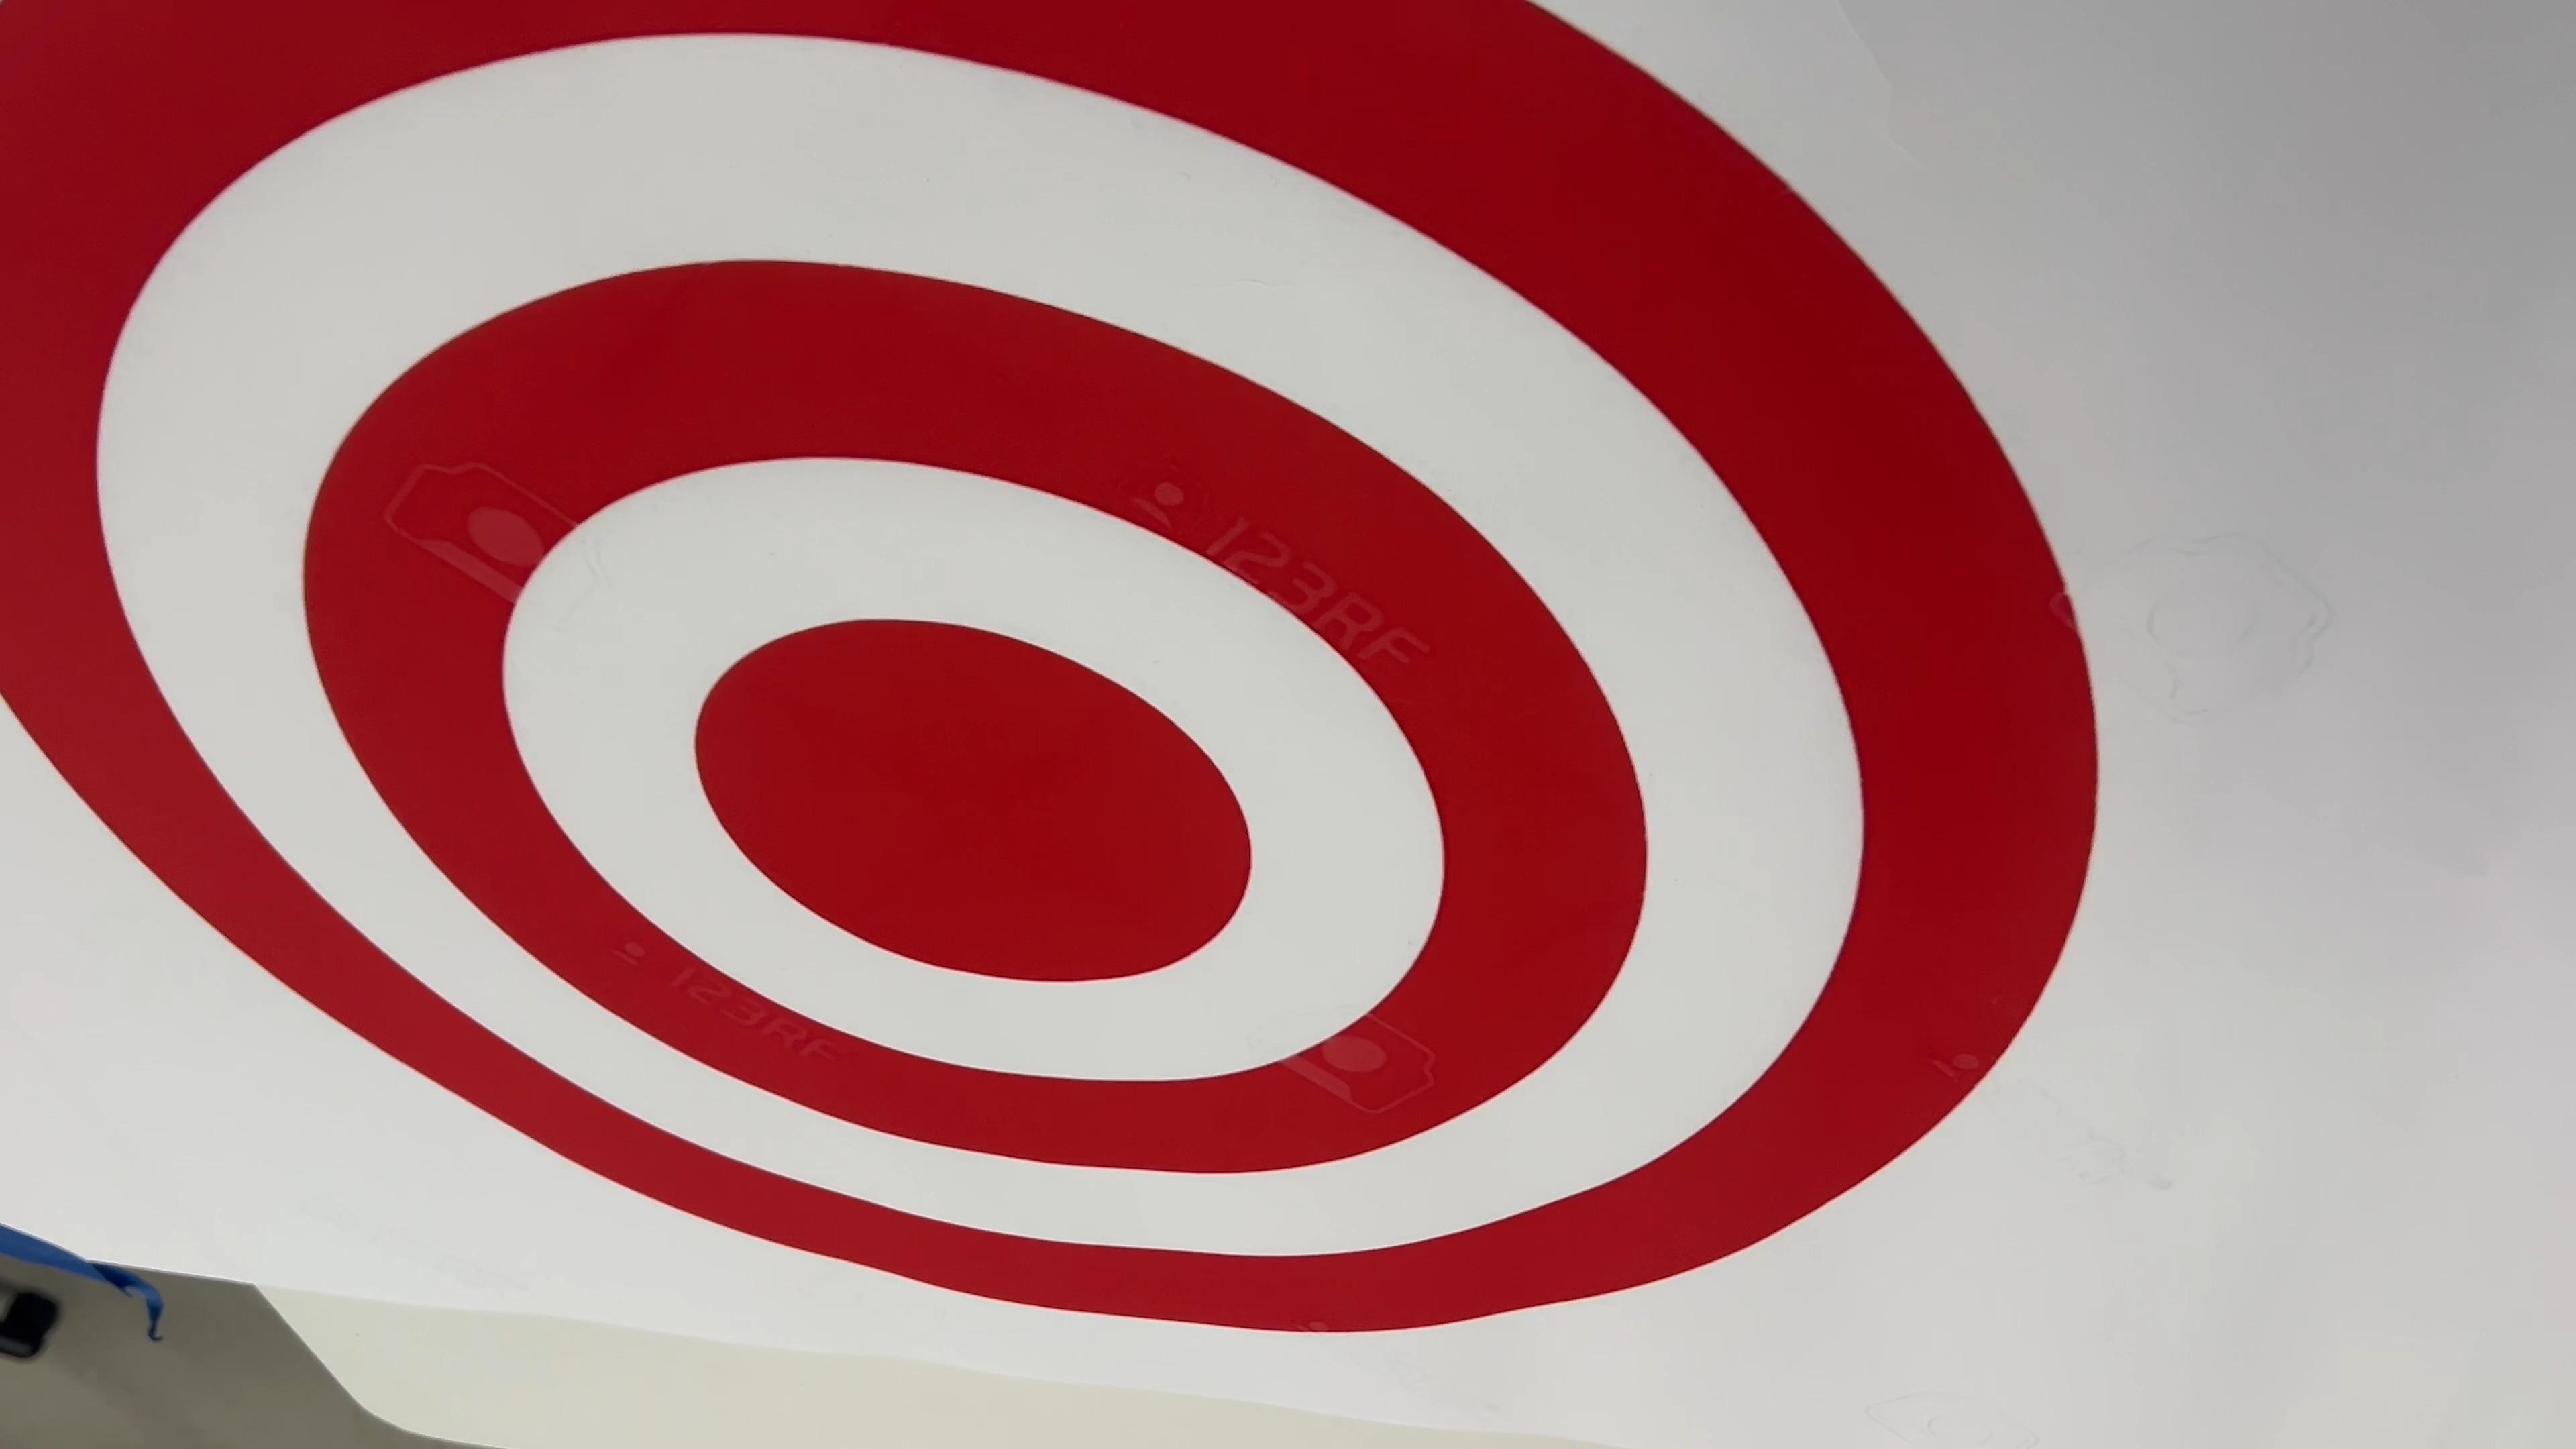target_red: (0, 0, 2252, 1339)
